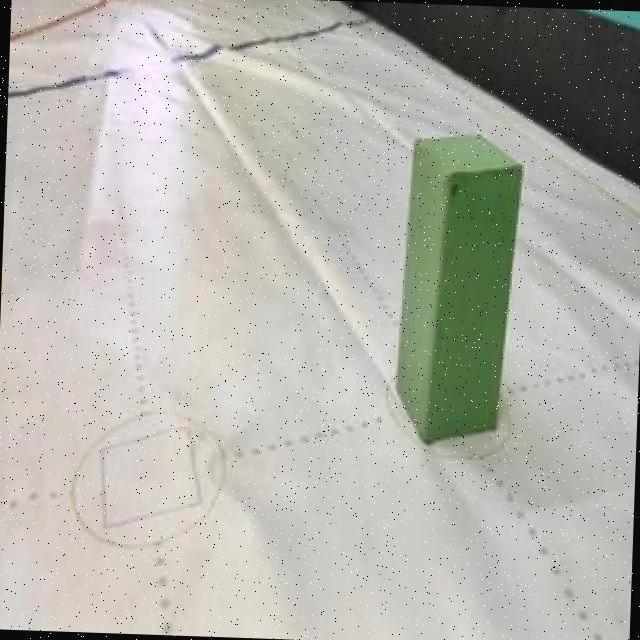greenbox: (390, 125, 526, 448)
